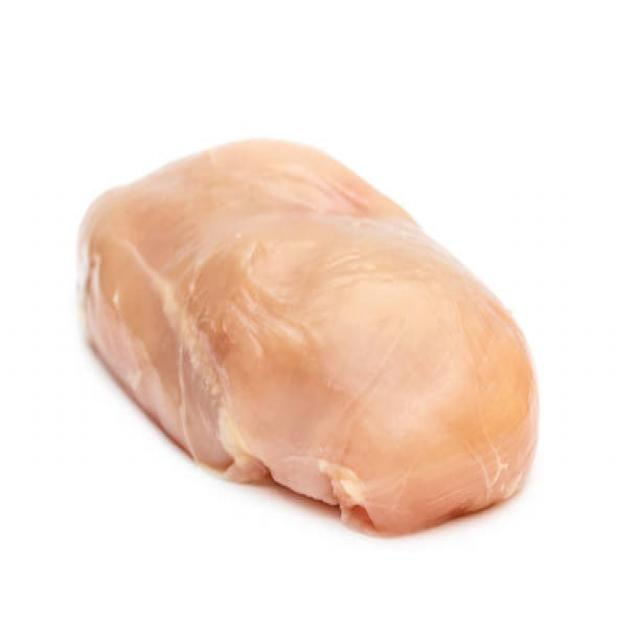Chicken: (54, 133, 555, 574)
